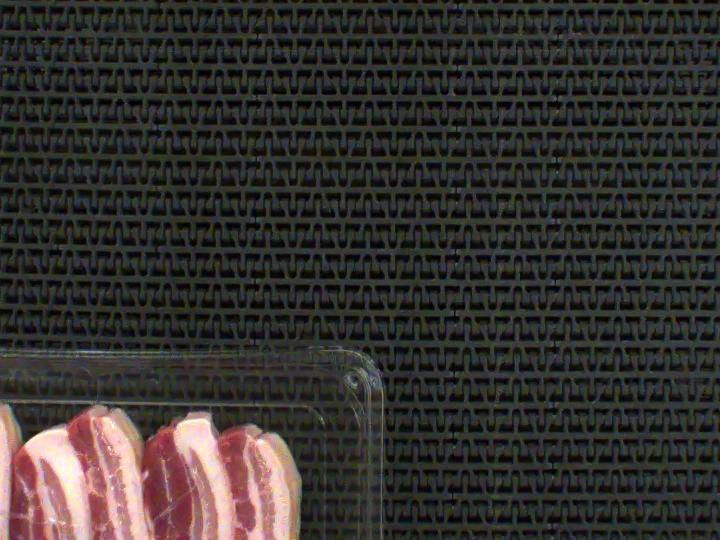wrinkle: (3, 509, 92, 537)
